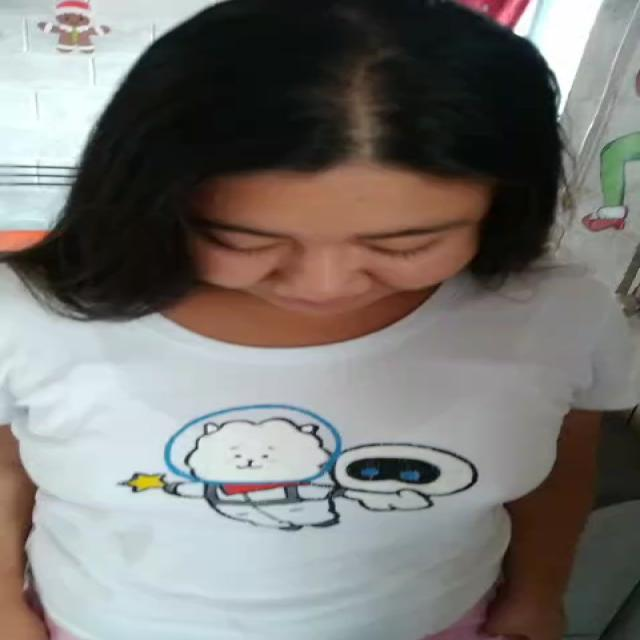9_cabeza_baja: (74, 0, 562, 315)
